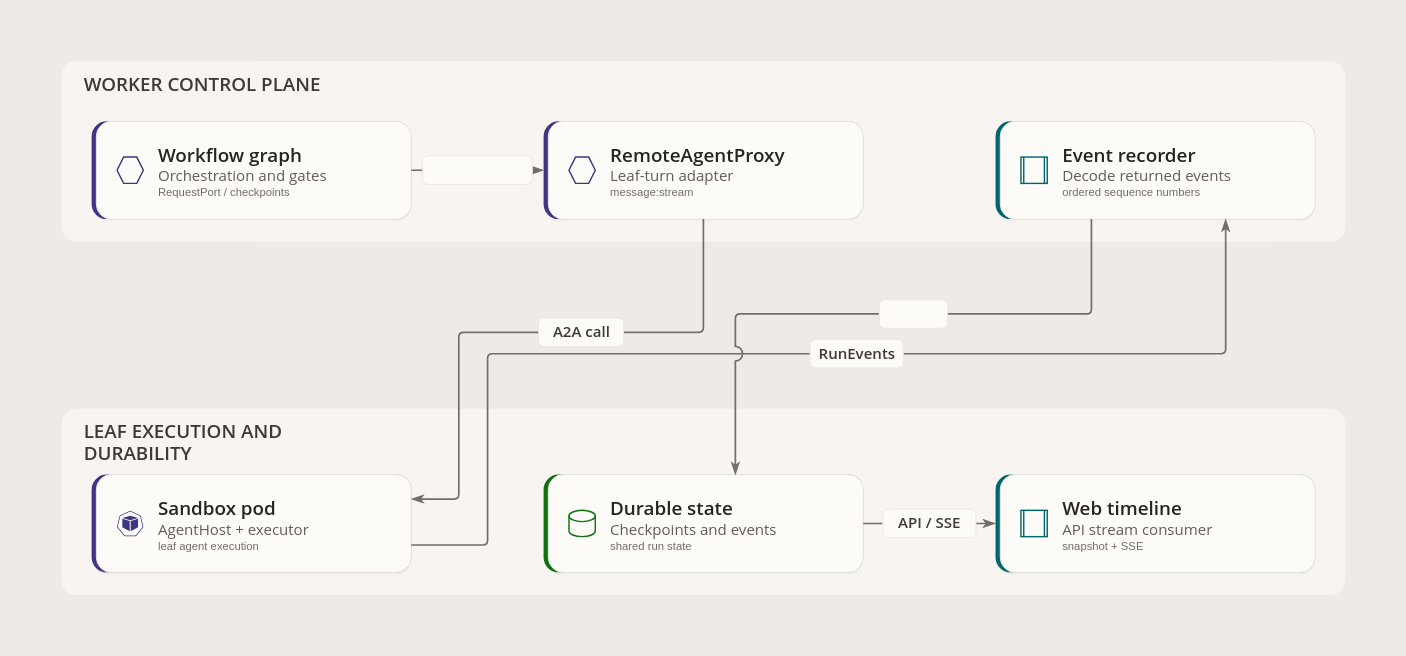
The diagram is 1406 pixels wide and 656 high, and some of its shapes have lost their labels. The shapes that lost their labels are listed below. From the top down, each one's centre as x and y in pixels, then its label:
At point (477, 170): "invoke leaf".
At point (913, 313): "record".
